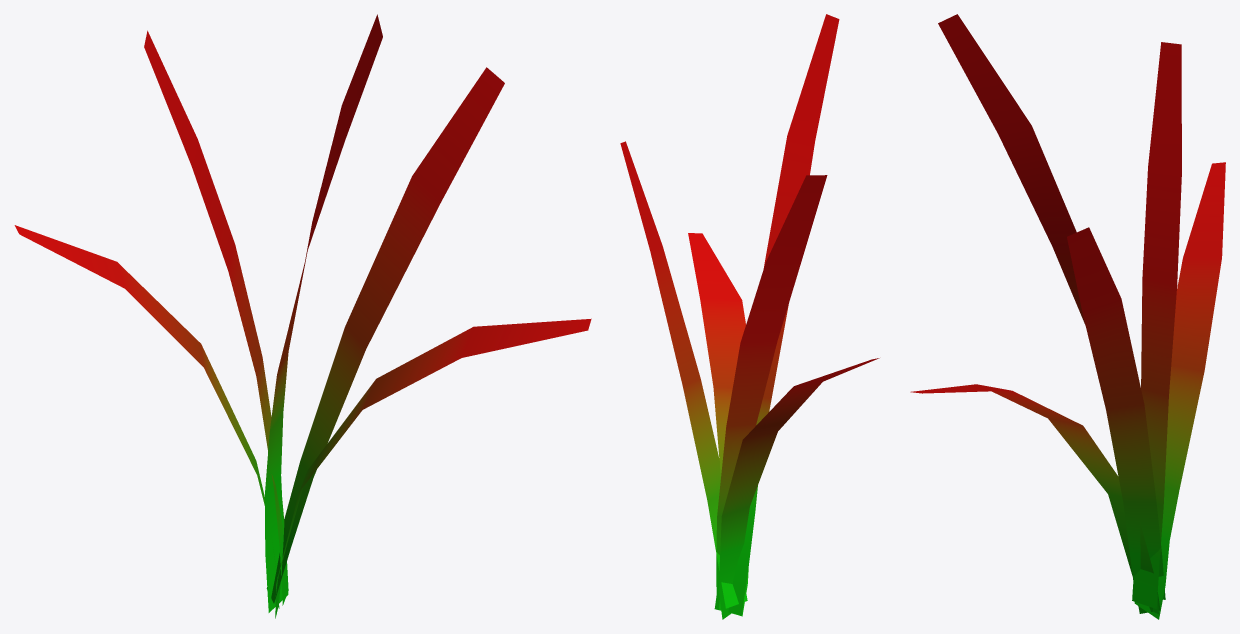
The model's file is Var2_LOD2.fbx.
3 renders of one model, left to right at view 1: azimuth 30°, elevation 25°; view 2: azimuth 150°, elevation 25°; view 3: azimuth 270°, elevation 25°, orthographic. The views are drawn at different scales.
Parts seen in each view (by area): view 1: _e351_Var2_LOD2; view 2: _e351_Var2_LOD2; view 3: _e351_Var2_LOD2.
Boxes of the visible parts, x1,y1,x2,y2 form: _e351_Var2_LOD2: (14,14,591,618); _e351_Var2_LOD2: (620,14,879,619); _e351_Var2_LOD2: (910,14,1225,619).
Bounding box in the file's own units: 43.89 × 70.26 × 33.66.
